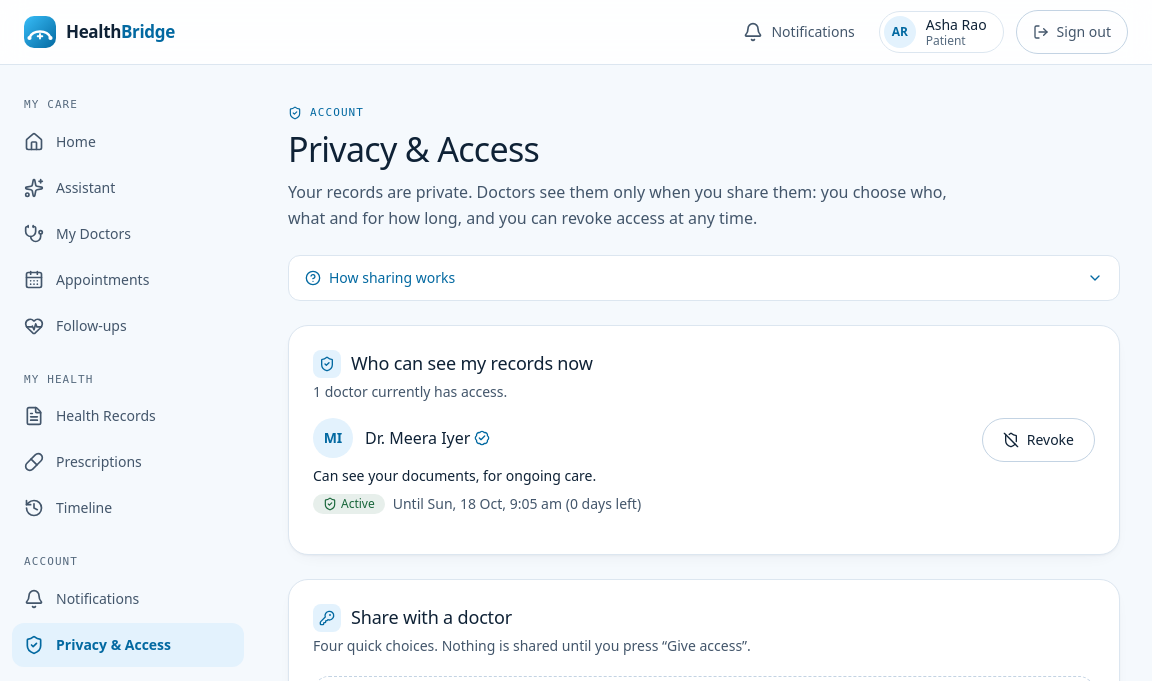
Scenario: privacy and access › lists who has access, revokes, and shows the access log in plain language
Expected: the text "Can see your documents, for ongoing care." is shown, [313, 466, 641, 486]
Click the button "Revoke": (1038,440) [982, 418, 1095, 462]
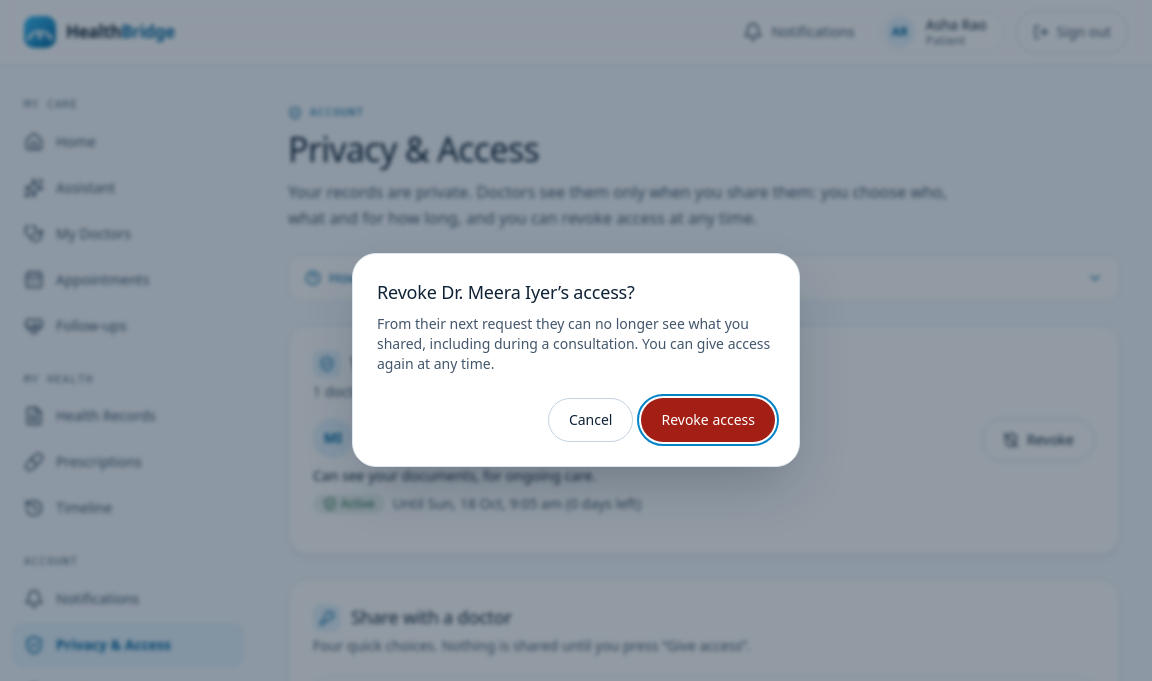
Note: Revoking asks first: it blocks the doctor's very next request.
Click the button "Revoke access": (708,420) [642, 398, 775, 442]
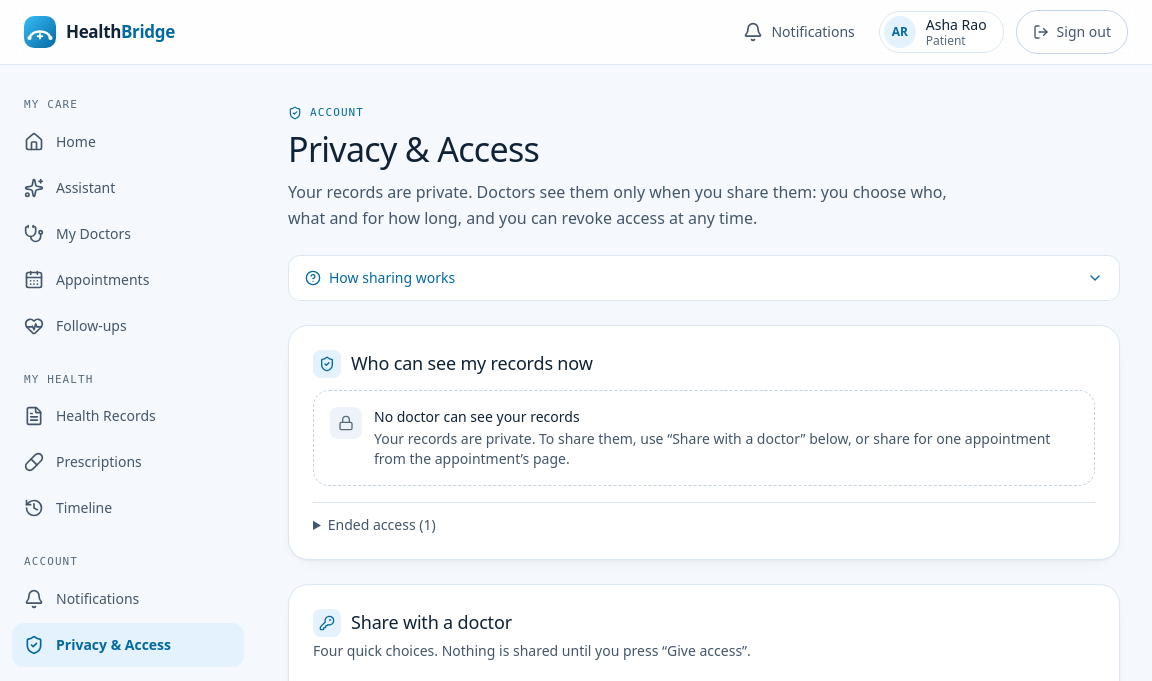
Now the text "No doctor can see your records" is shown, box [374, 407, 580, 426]
